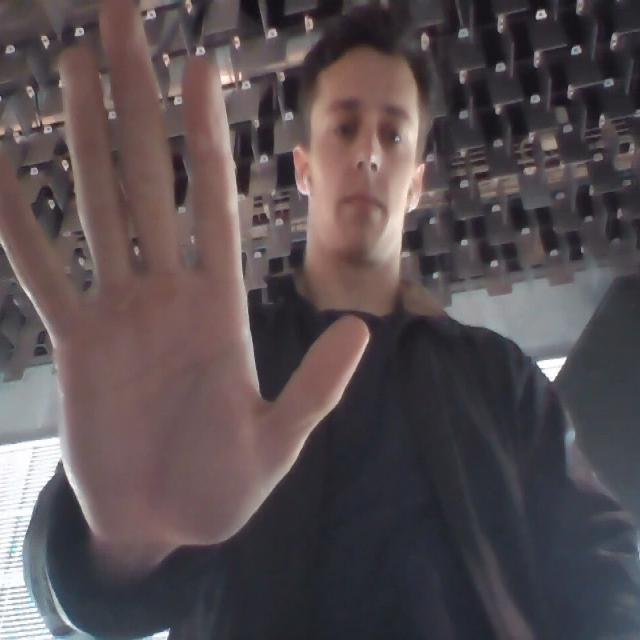backward: (6, 6, 377, 531)
